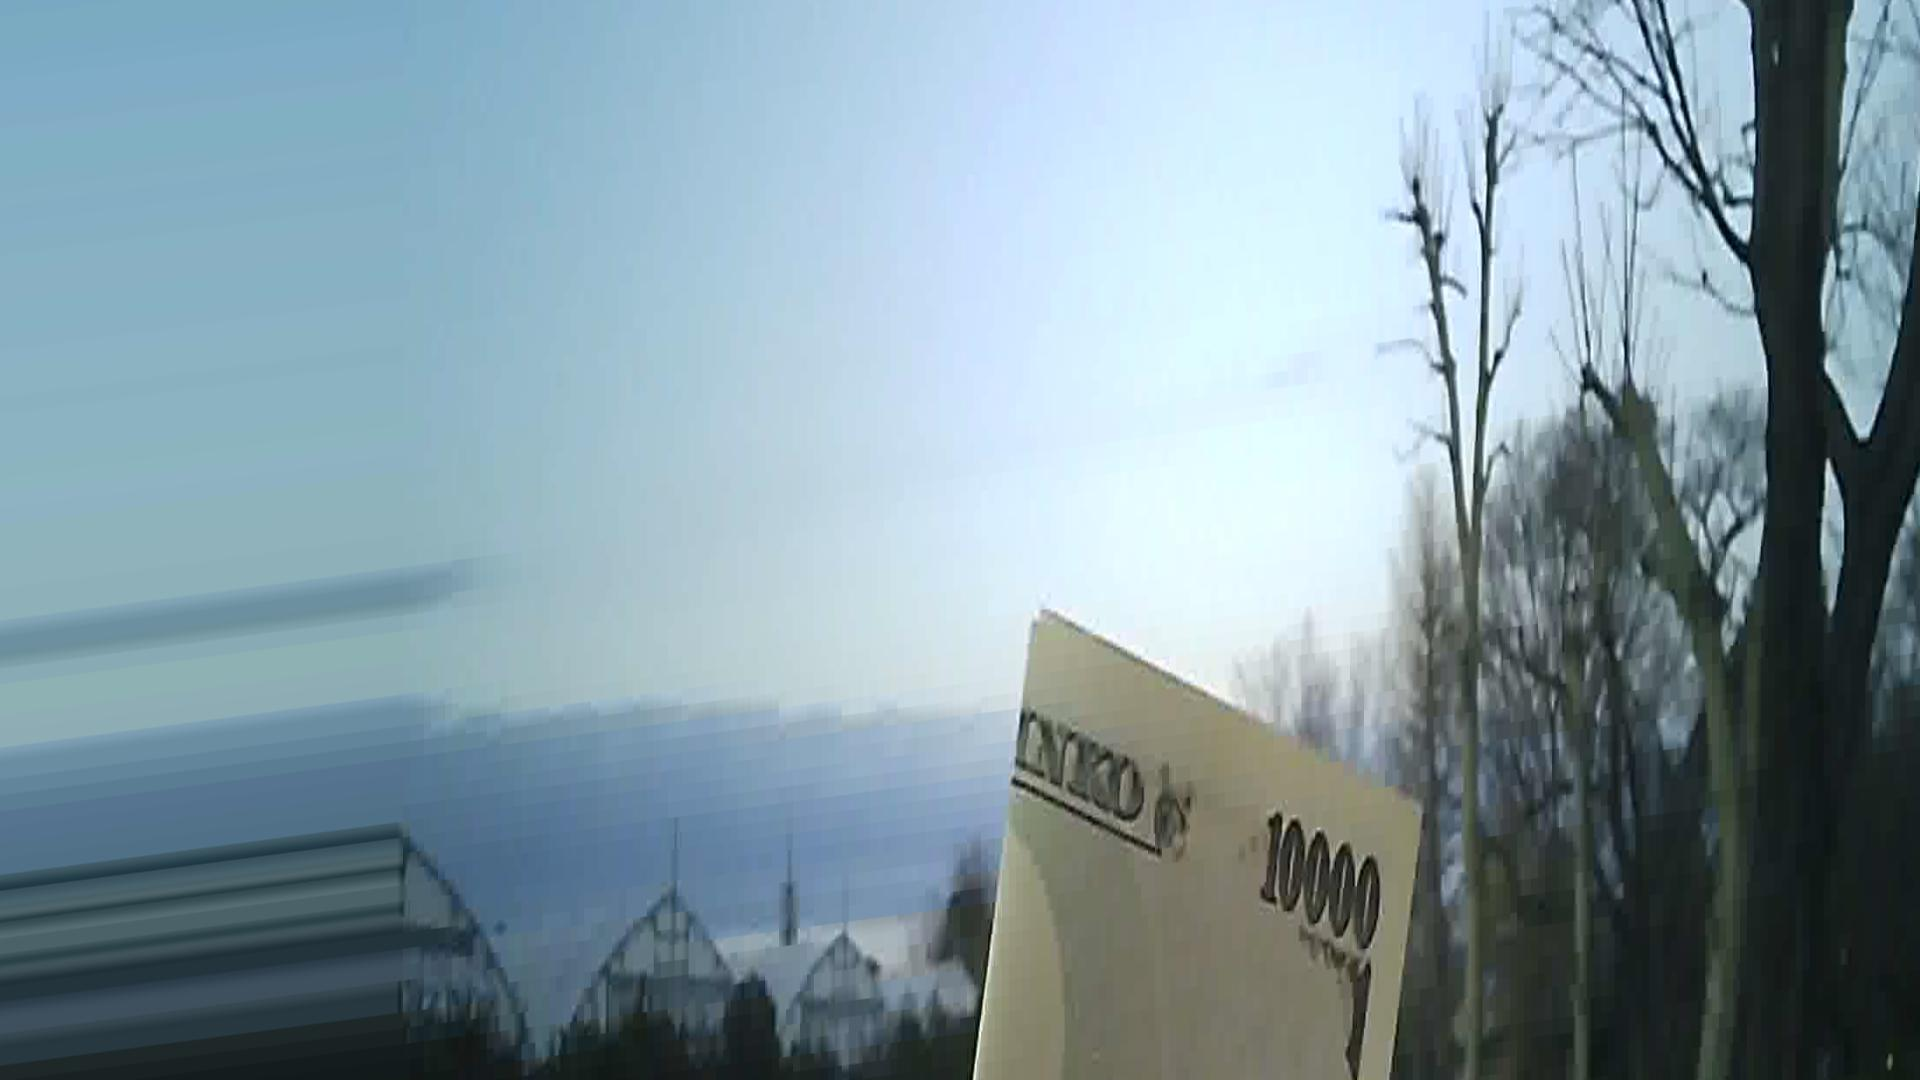10,000 Yen: (938, 629, 1460, 1075)
